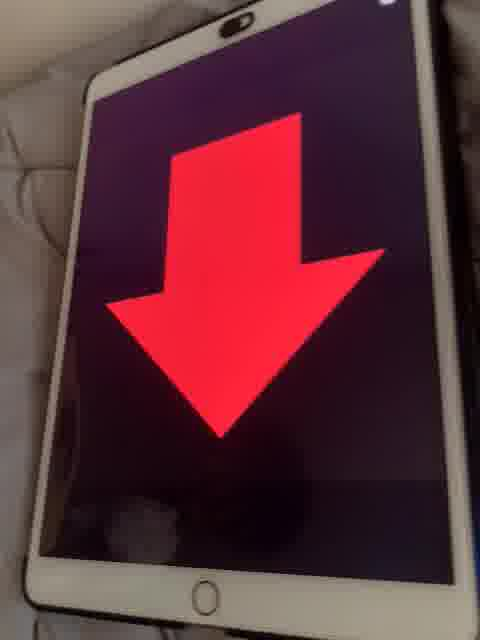down: (102, 105, 388, 457)
